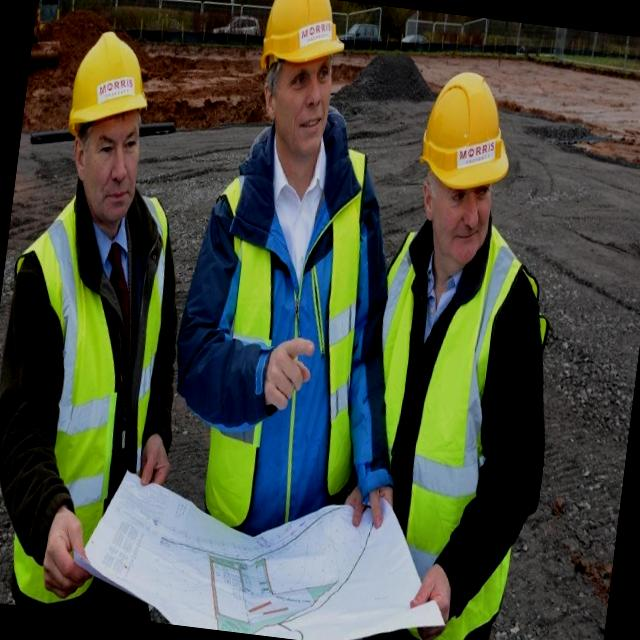helmet: (407, 61, 530, 204), (58, 24, 162, 148), (252, 4, 352, 100)
vest: (165, 152, 400, 612), (328, 222, 573, 640), (0, 208, 199, 621)
